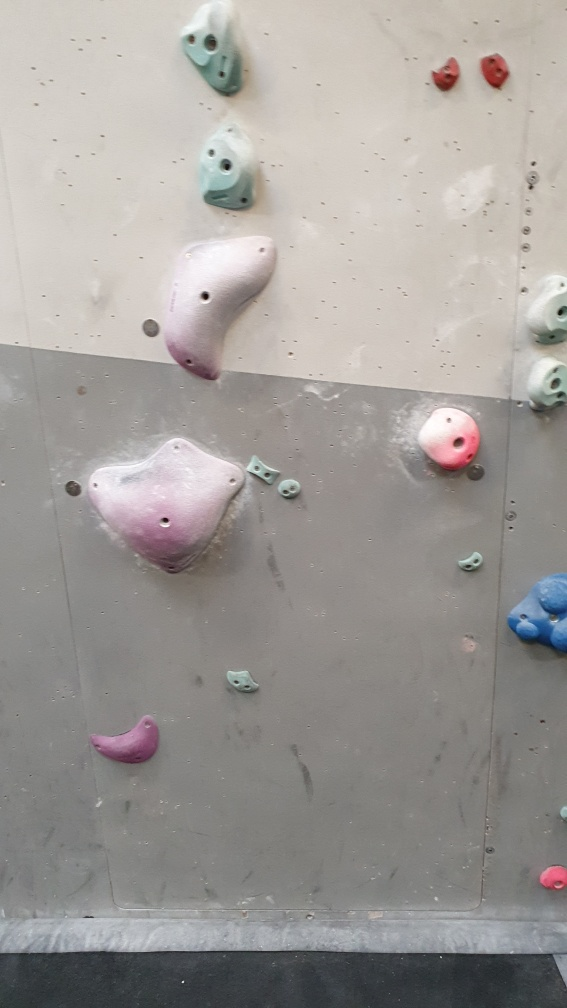Hand Start: (463, 463, 487, 482)
Jug: (176, 1, 254, 100), (196, 118, 262, 216), (520, 273, 567, 347), (520, 352, 567, 420)
Pinch: (249, 454, 277, 486)
Sloper: (510, 570, 567, 654)
